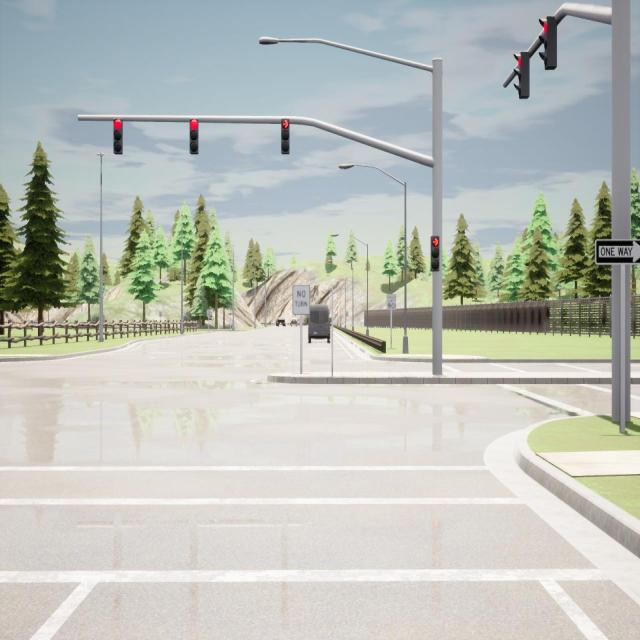Traffic_Signs: (596, 239, 640, 265), (293, 286, 309, 314), (386, 293, 396, 311)
Vehicle: (309, 306, 331, 342), (276, 317, 286, 328), (290, 317, 298, 328)
traffic_light: (512, 50, 530, 99), (540, 15, 556, 70), (114, 120, 122, 155), (431, 236, 439, 271), (190, 119, 198, 154), (282, 119, 289, 154)
